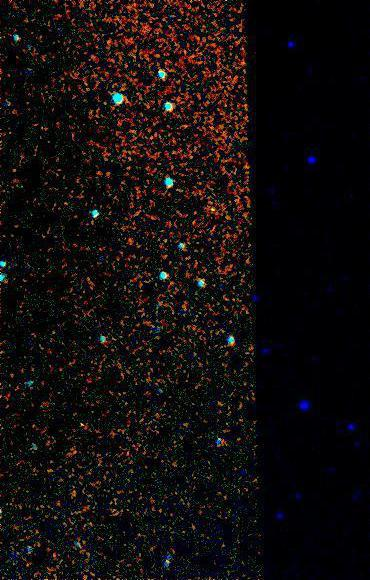star: (64, 411, 94, 441)
